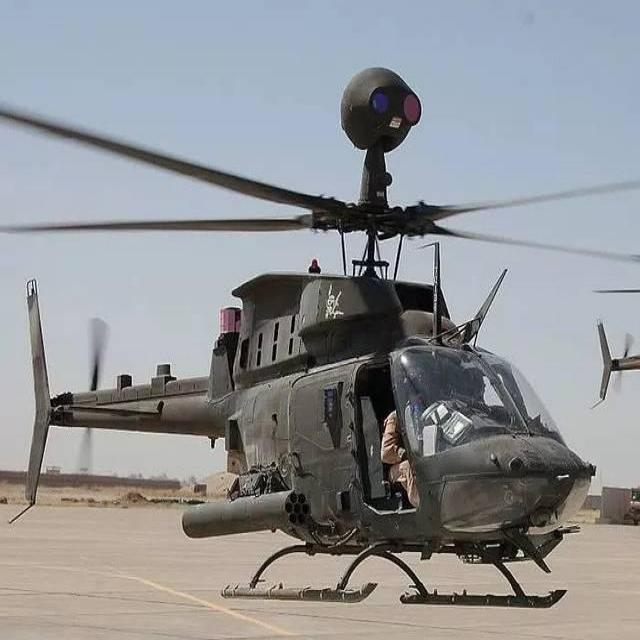MIL_HELO: (0, 63, 600, 614)
